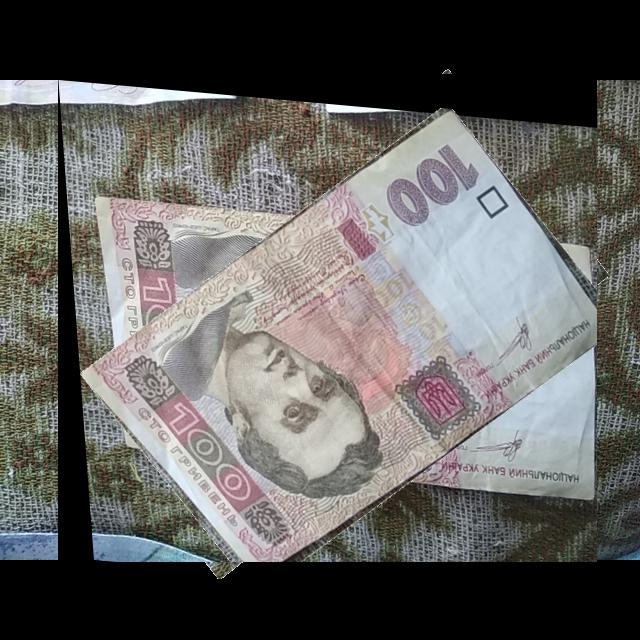100uah: (76, 102, 598, 563)
